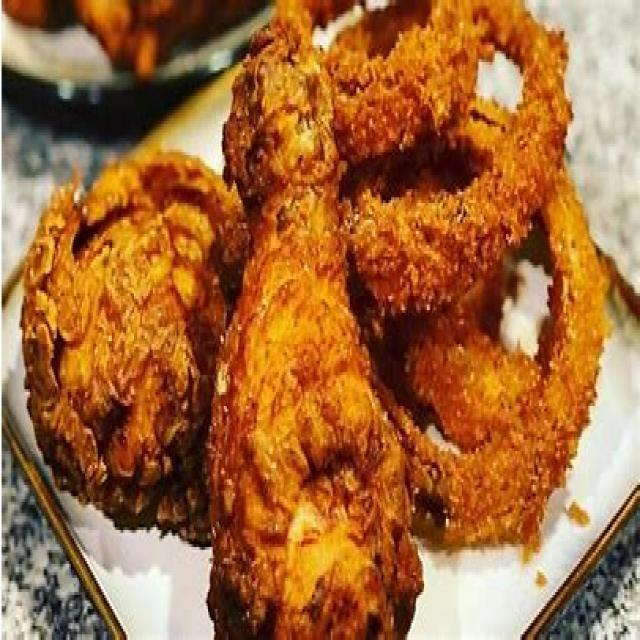Chicken Wings: (49, 8, 345, 626)
Onion Rings: (342, 0, 610, 547)
